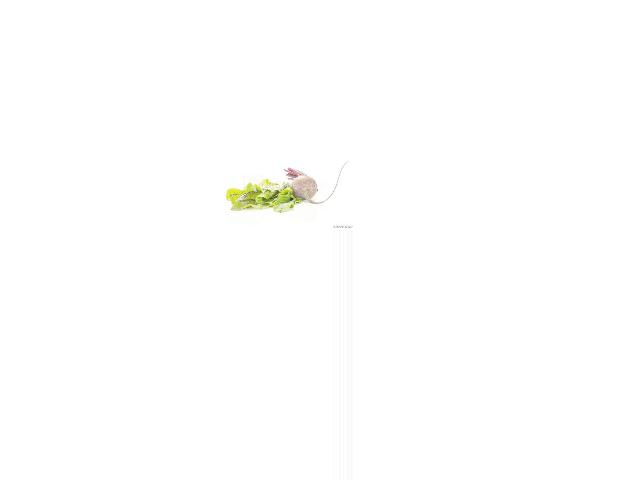beet: (283, 160, 350, 204)
